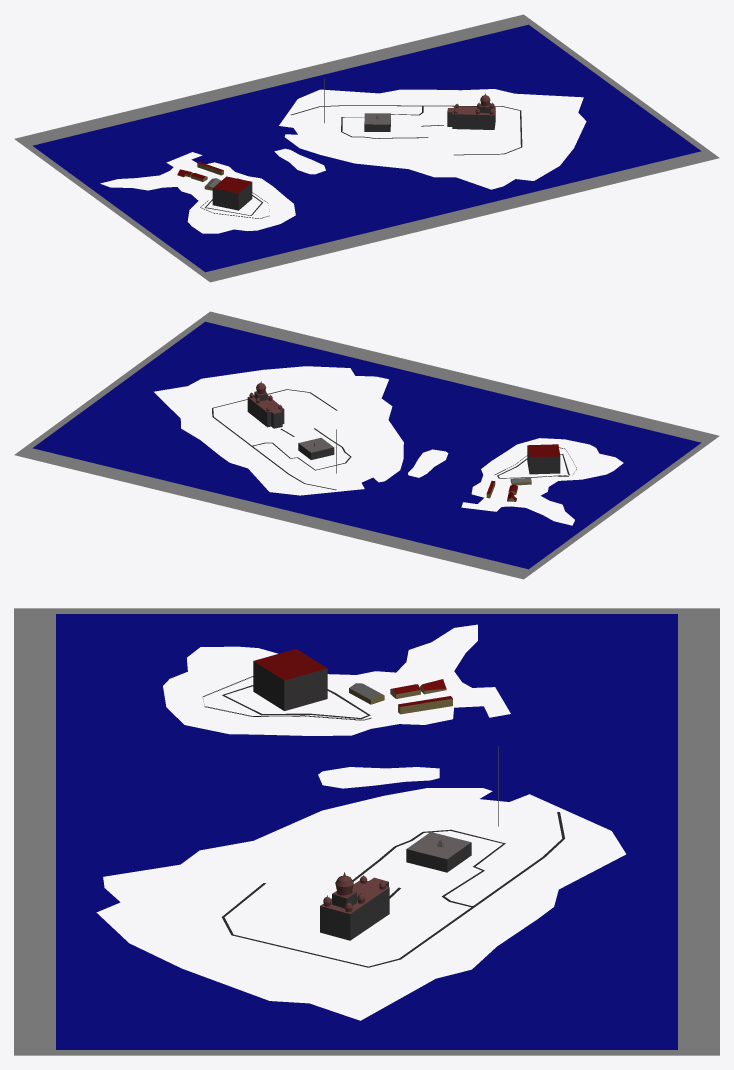
File: Kanyakumari.obj
The picture shows the model from 3 angles, top to bottom: view 1: azimuth 30°, elevation 25°; view 2: azimuth 150°, elevation 25°; view 3: azimuth 270°, elevation 25°; orthographic projection. The views are drawn at different scales.
Parts seen in each view (by area): view 1: Water38, SurfaceArea45, SurfaceArea46, Building42, Building44, Building Sri Paada Mantapam; view 2: Water38, SurfaceArea45, SurfaceArea46, Building42, Building44, Building Sri Paada Mantapam; view 3: Water38, SurfaceArea45, SurfaceArea46, Building44, Building42, Building Sri Paada Mantapam.
Part boxes in pixels (box(x1,y1,x2,y2)): Water38: box(32, 24, 701, 272); SurfaceArea45: box(14, 35, 634, 282); SurfaceArea46: box(439, 14, 719, 178); Building42: box(447, 93, 495, 129); Building44: box(212, 176, 252, 210); Building Sri Paada Mantapam: box(364, 113, 390, 131); Water38: box(32, 321, 701, 569); SurfaceArea45: box(99, 332, 719, 579); SurfaceArea46: box(14, 311, 294, 475); Building42: box(247, 381, 284, 428); Building44: box(527, 444, 560, 474); Building Sri Paada Mantapam: box(298, 437, 334, 459); Water38: box(56, 614, 677, 1049); SurfaceArea45: box(14, 608, 719, 981); SurfaceArea46: box(14, 981, 719, 1055); Building44: box(253, 649, 327, 710); Building42: box(320, 872, 389, 940); Building Sri Paada Mantapam: box(406, 832, 471, 872).
Size of the model in its own units: 360 by 30.2 by 240.
